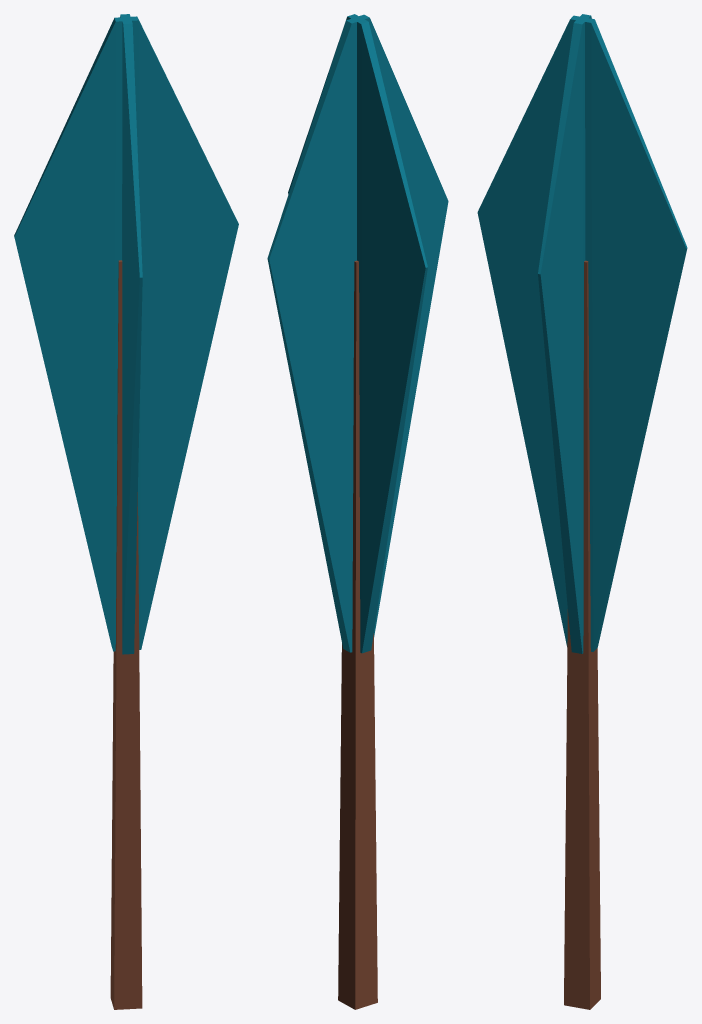
Rendered from Tree_32_summer_blue_vc.fbx.
The picture shows the model from 3 angles, left to right: view 1: azimuth 30°, elevation 25°; view 2: azimuth 150°, elevation 25°; view 3: azimuth 270°, elevation 25°; orthographic projection.
Visible parts, largest first — view 1: Tree_32_summer_blue_vc; view 2: Tree_32_summer_blue_vc; view 3: Tree_32_summer_blue_vc.
Boxes of the visible parts, x1,y1,x2,y2 form: Tree_32_summer_blue_vc: (14,14,238,1009); Tree_32_summer_blue_vc: (267,14,448,1009); Tree_32_summer_blue_vc: (477,14,687,1009).
Bounding box in the file's own units: 48.99 × 253 × 48.99.
